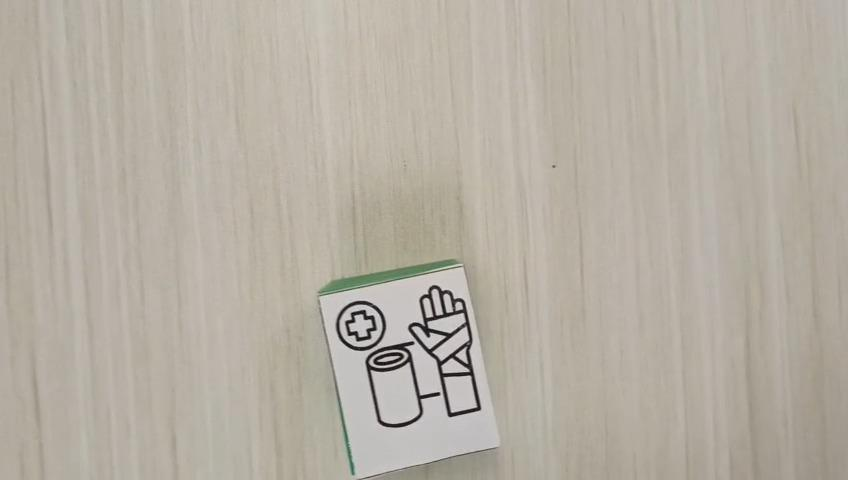Bandages: (316, 258, 501, 477)
